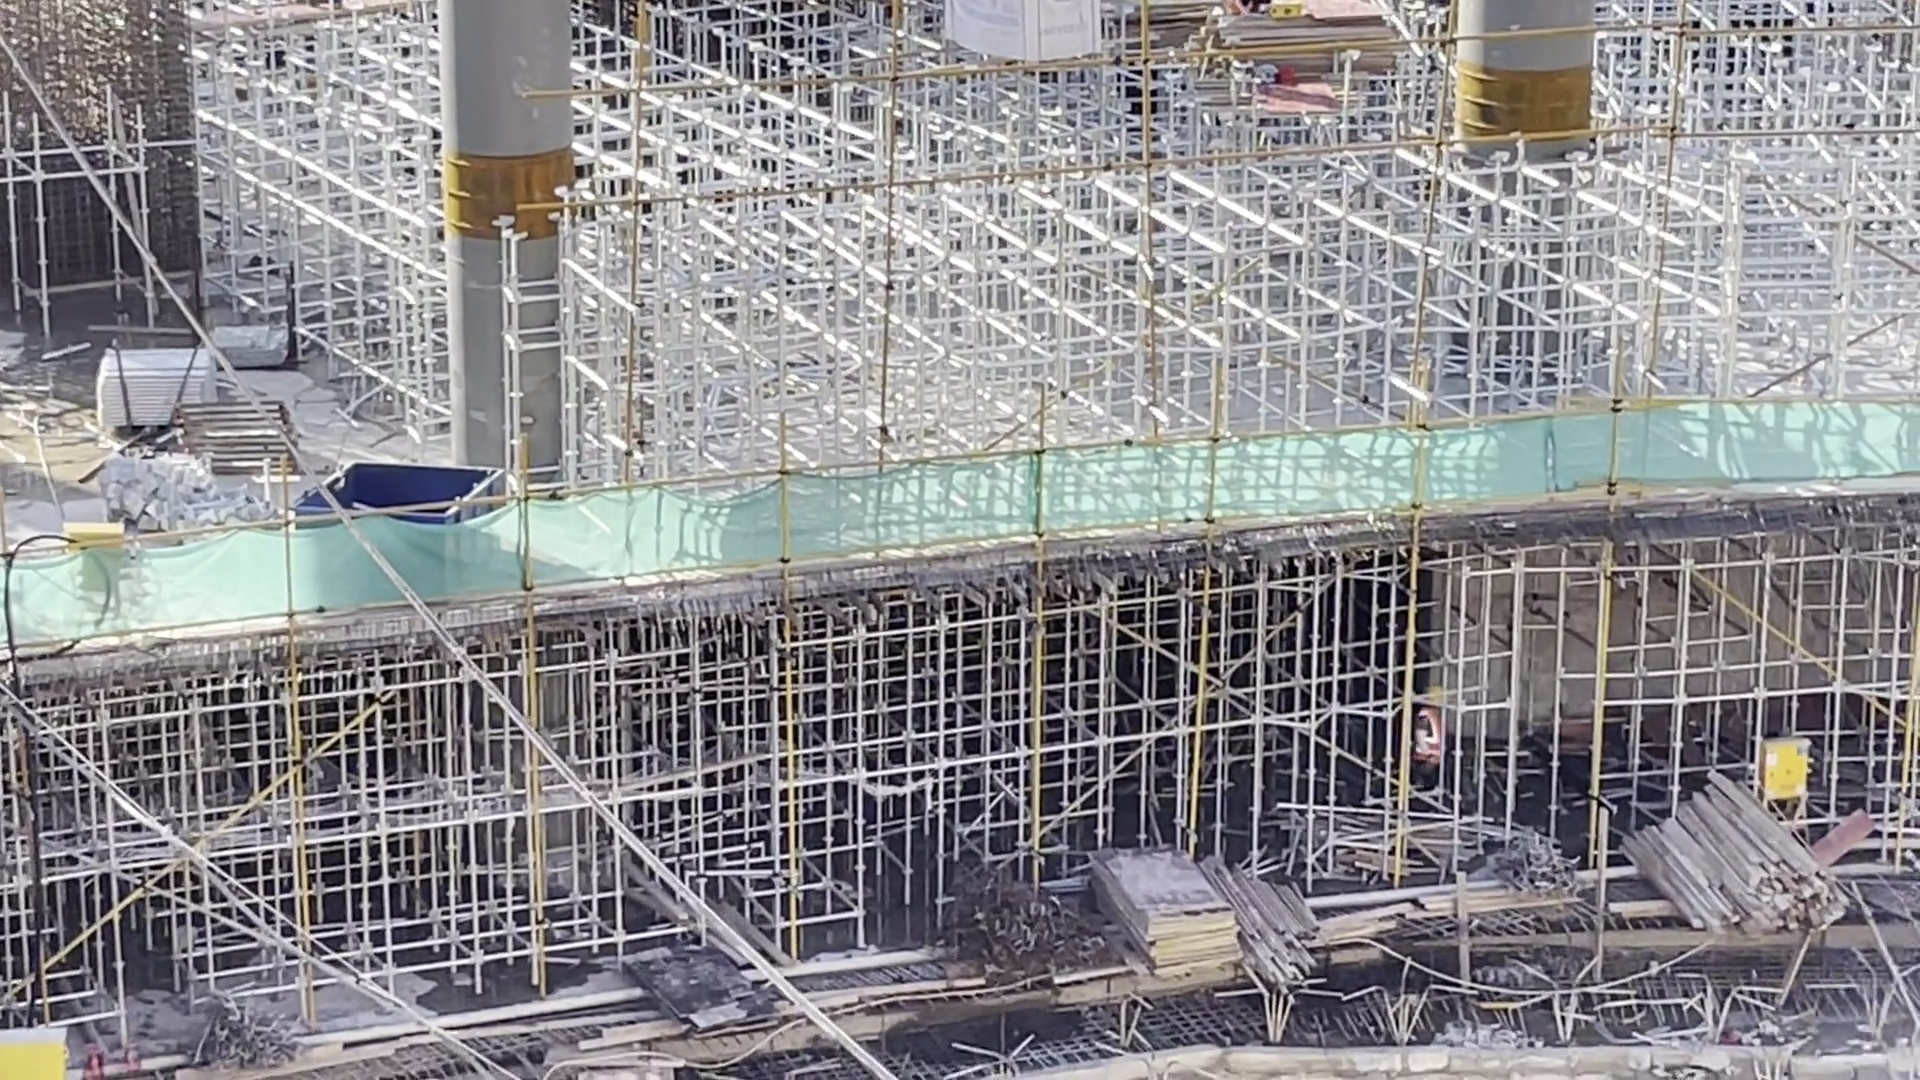board: (1085, 846, 1249, 976), (1206, 5, 1401, 80)
ebox: (1752, 728, 1821, 808), (60, 519, 130, 541)
hopper: (285, 458, 511, 506)
person: (1414, 705, 1440, 791)
scaffold: (95, 341, 219, 411)
wood: (1617, 763, 1858, 937), (1252, 875, 1322, 1009)
